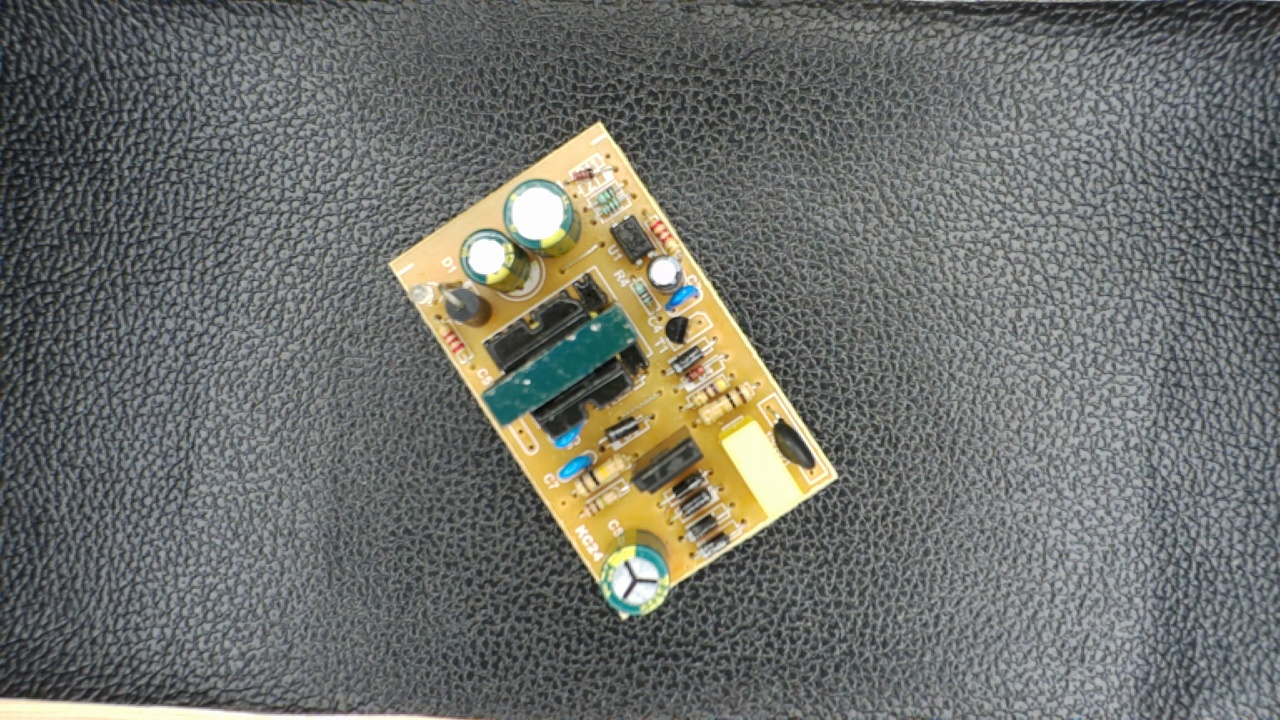fuse: (762, 405, 822, 480)
hv_capacitor: (594, 525, 675, 617)
optocoupler: (600, 213, 660, 267)
